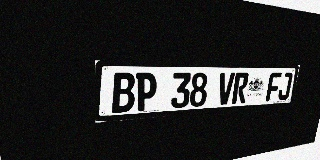3: (171, 72, 191, 109)
8: (189, 72, 209, 107)
B: (112, 73, 135, 113)
F: (265, 72, 282, 101)
J: (277, 72, 293, 100)
P: (135, 73, 157, 111)
R: (231, 72, 249, 104)
V: (216, 72, 235, 105)
